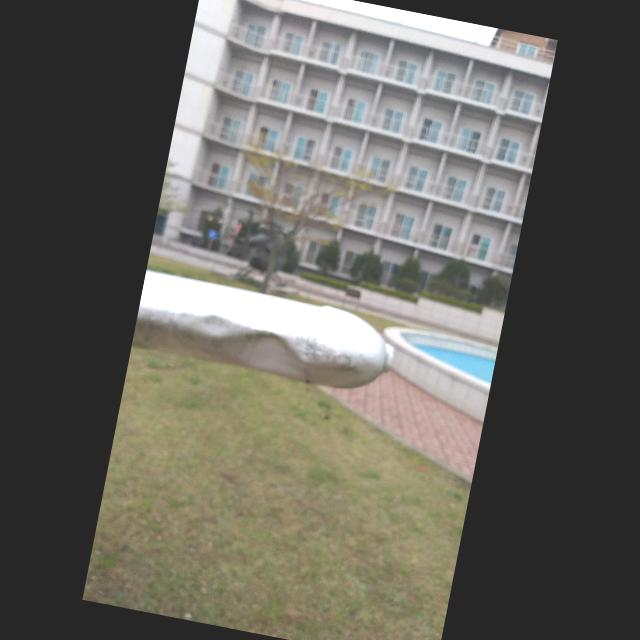dent: (210, 322, 318, 382), (198, 311, 235, 338)
